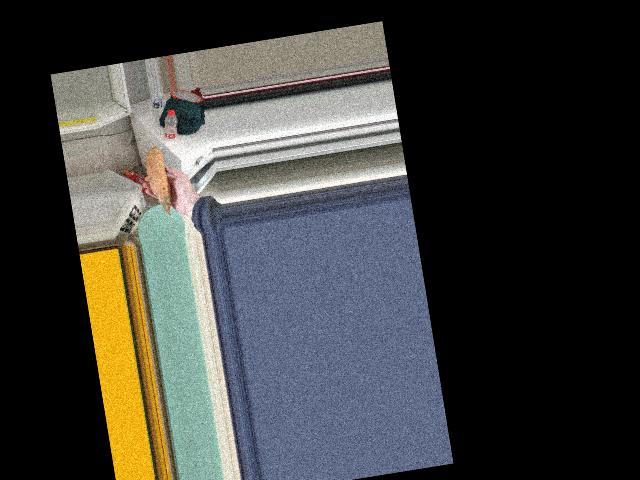sweet_potato: (143, 145, 175, 214)
